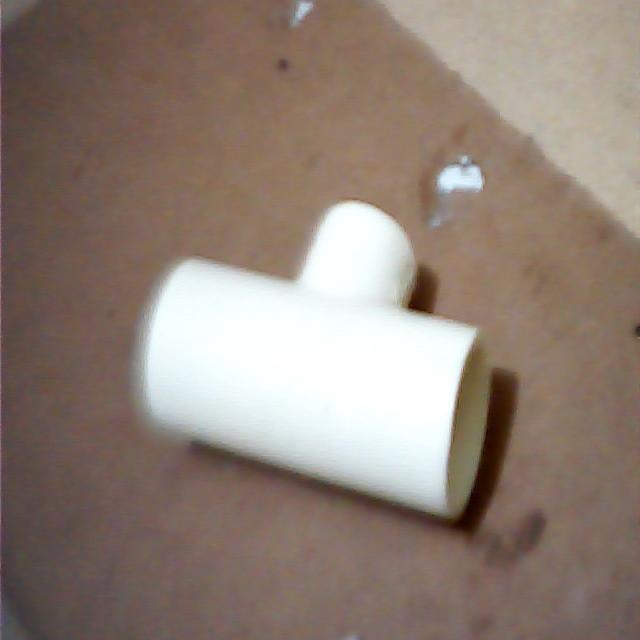T Joint: (127, 201, 506, 529)
